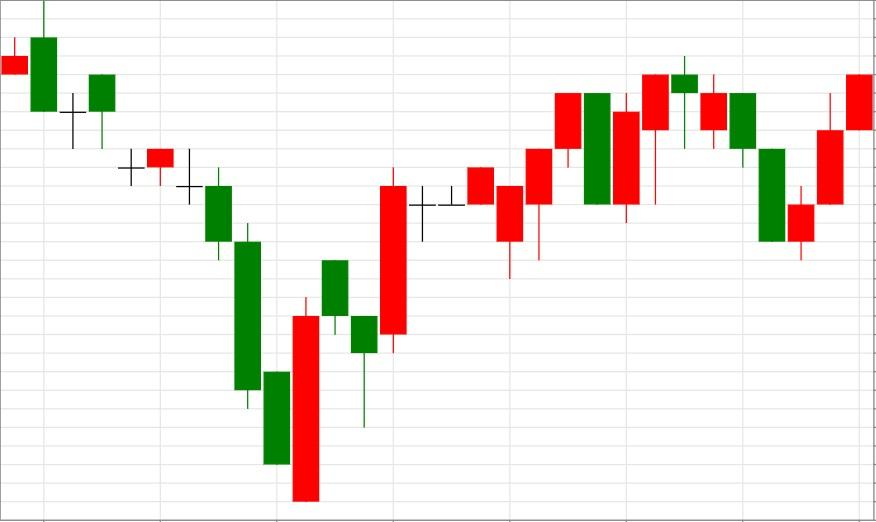bearish_engulfing_fall: (496, 92, 611, 279)
bullish_engulfing_rise: (29, 0, 320, 502)
three_white_soldiers_rise: (670, 55, 873, 262)
